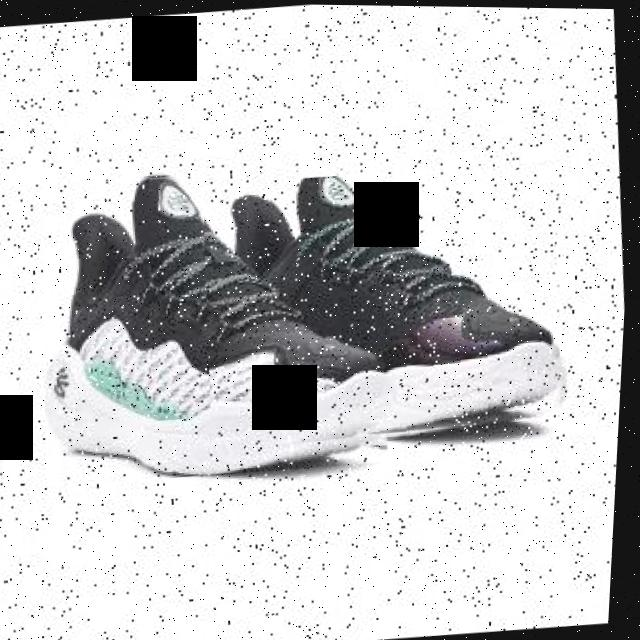shoe: (26, 153, 411, 490), (193, 153, 583, 456)
